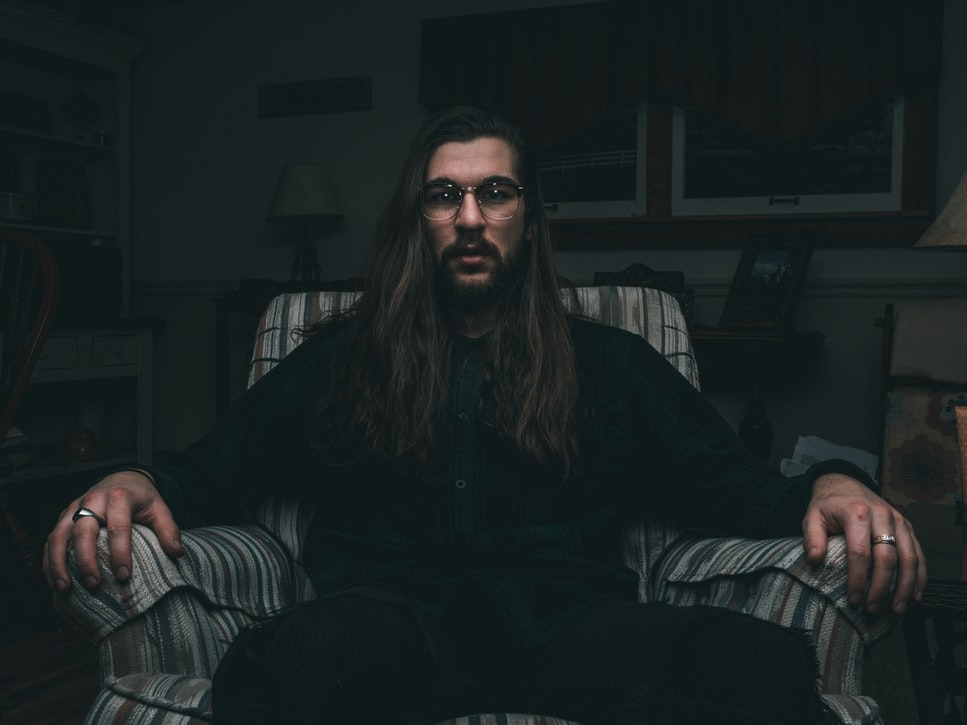beard: (435, 240, 528, 310)
glasses: (413, 176, 530, 228)
